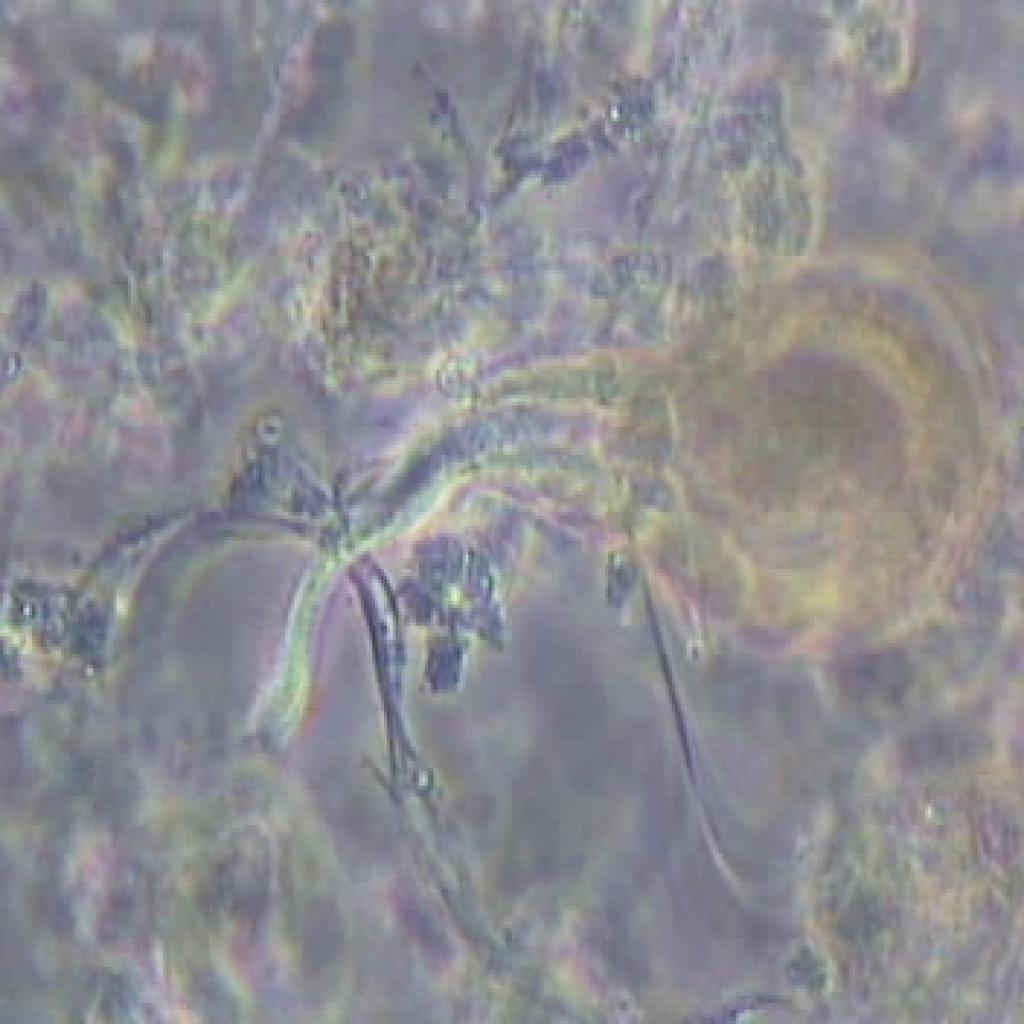Chaetopira: (285, 268, 983, 674)
